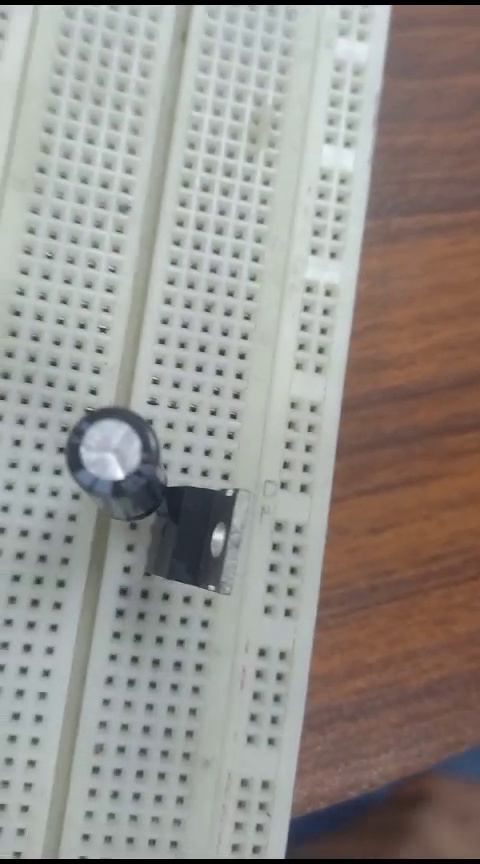capacitor: (62, 401, 164, 536)
voltage regulator: (154, 469, 246, 593)
